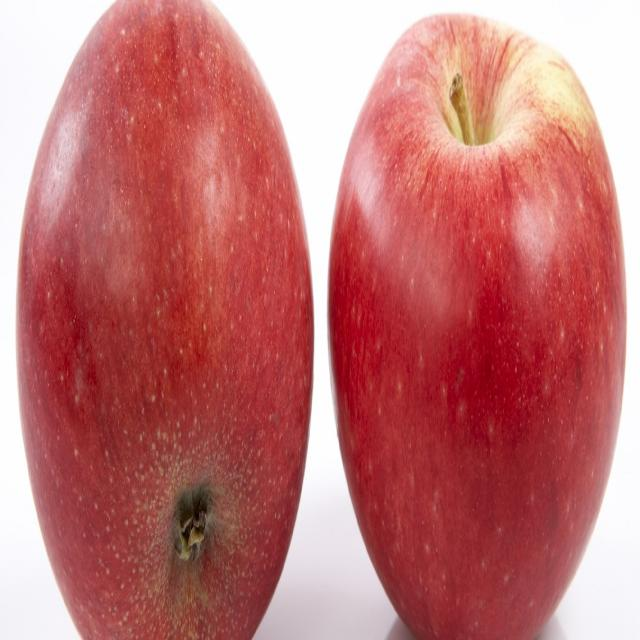Apple: (15, 0, 314, 640), (332, 10, 628, 640)
